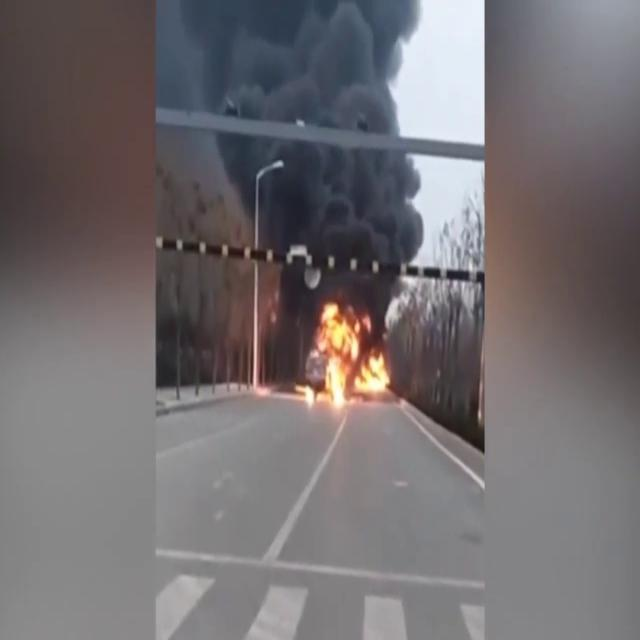Fire: (308, 298, 390, 404)
Smoke: (227, 2, 439, 304)
